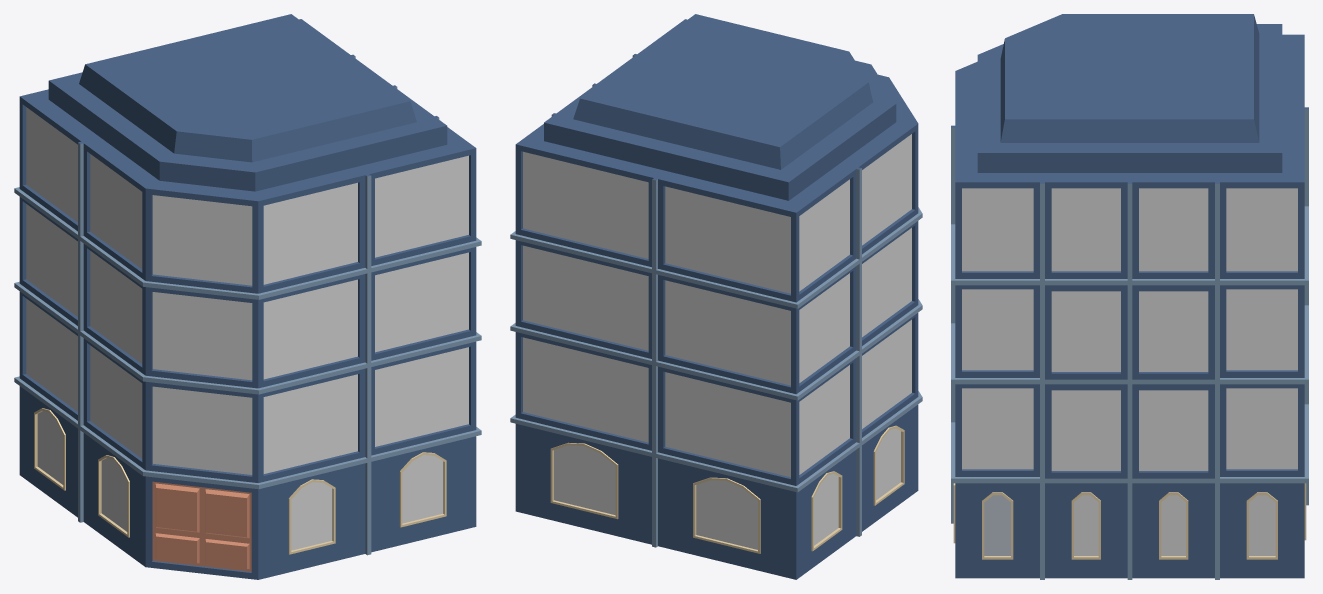
The model's file is cb-apartment-G.fbx.
3 renders of one model, left to right at view 1: azimuth 30°, elevation 25°; view 2: azimuth 150°, elevation 25°; view 3: azimuth 270°, elevation 25°, orthographic. The views are drawn at different scales.
Visible parts, largest first — view 1: cb-apartment-G; view 2: cb-apartment-G; view 3: cb-apartment-G.
Part boxes in pixels (x1,y1,x2,y2): cb-apartment-G: (14, 14, 481, 579); cb-apartment-G: (510, 14, 922, 579); cb-apartment-G: (951, 14, 1308, 579).
Bounding box in the file's own units: 9.86 × 13.31 × 9.86.
